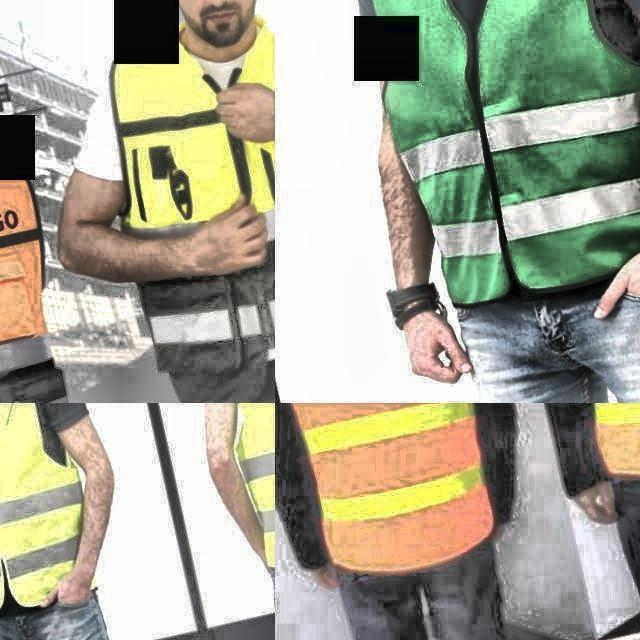safety_jacket: (345, 0, 640, 314), (89, 0, 275, 264), (275, 403, 523, 591), (0, 403, 106, 624), (0, 146, 84, 403)
